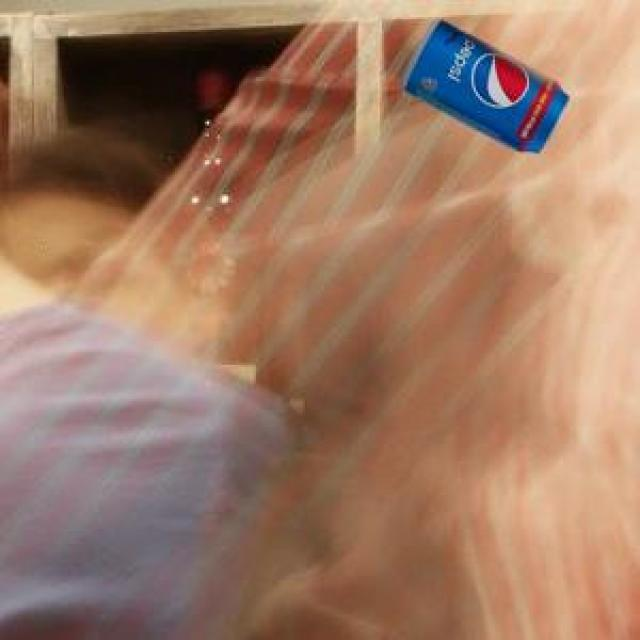Can: (400, 18, 566, 150)
